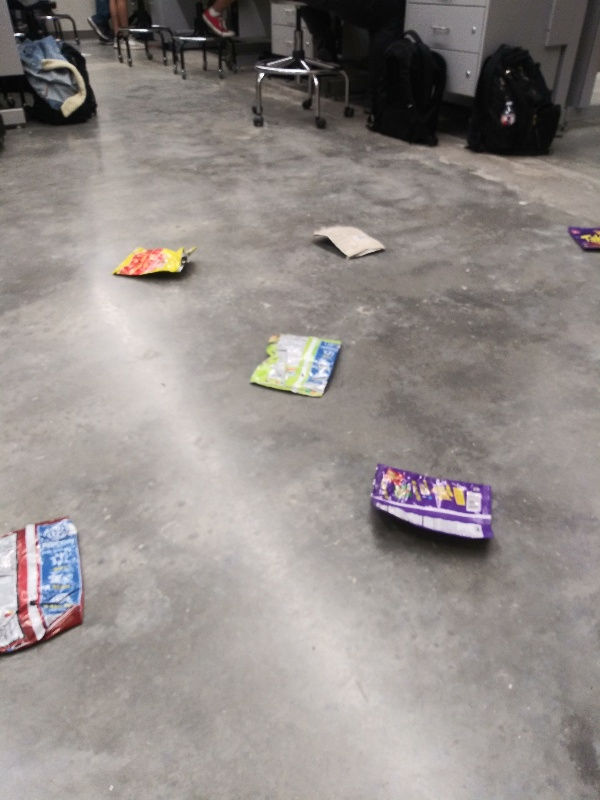bag: (1, 511, 92, 657), (368, 458, 501, 549), (248, 331, 348, 403), (305, 219, 394, 263), (109, 239, 200, 282), (560, 216, 600, 257)
bottle: (495, 97, 520, 130)
